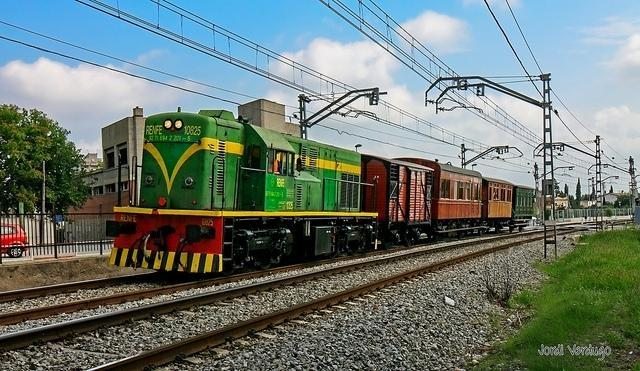car: (1, 224, 29, 258)
